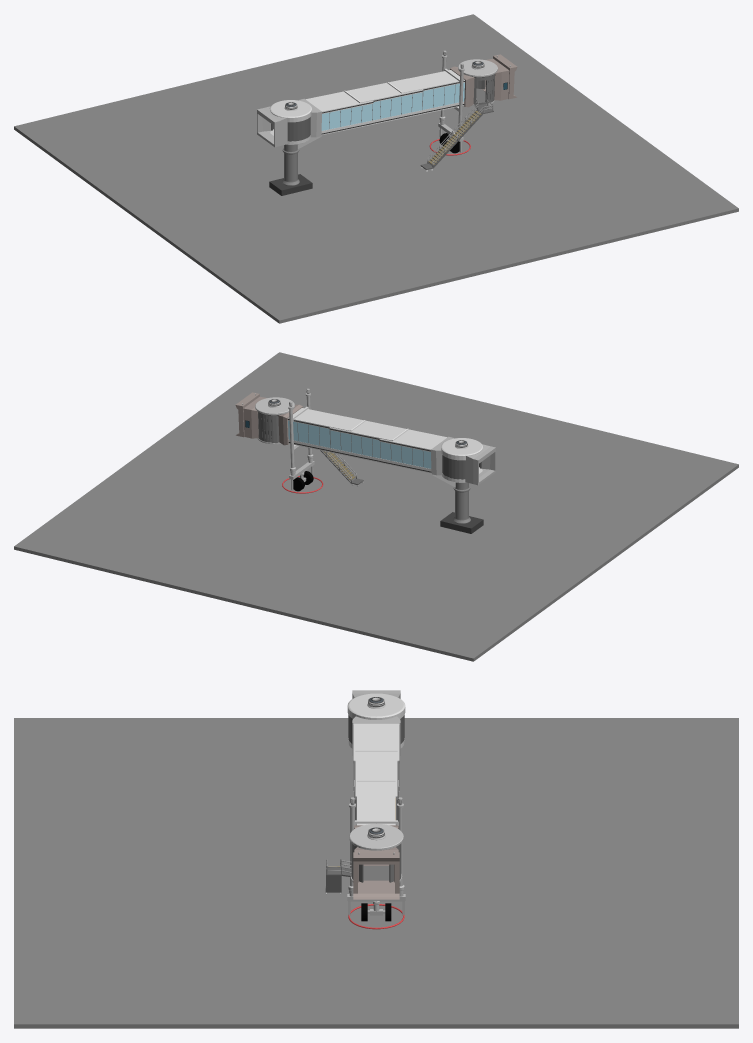
The model's file is aIROBRIDGE.fbx.
3 views of the same model, one above another, from view 1: azimuth 30°, elevation 25°; view 2: azimuth 150°, elevation 25°; view 3: azimuth 270°, elevation 25° (orthographic). The views are drawn at different scales.
Visible parts, largest first — view 1: Plane.003, Cylinder.006, Cylinder.035, Cube.016, Plane.001, Cube.041, Plane.002, Cube.015, Cube.014, Plane, Cylinder.008, Cube.059 (+1 smaller); view 2: Plane.003, Cylinder.006, Cylinder.035, Cube.016, Plane.001, Cube.041, Plane.002, Cube.015, Cube.014, Plane, Cylinder.008, Cube.059 (+1 smaller); view 3: Plane.003, Cylinder.035, Cube.016, Cylinder.006, Cube.015, Cube.014, Cube.040, Cube.059, Cylinder.009.
Boxes of the visible parts, bbox=[...] form: Plane.003: bbox=[14, 14, 738, 323]; Cylinder.006: bbox=[269, 100, 311, 144]; Cylinder.035: bbox=[458, 59, 497, 106]; Cube.016: bbox=[387, 70, 464, 93]; Plane.001: bbox=[372, 92, 422, 120]; Cube.041: bbox=[257, 106, 287, 147]; Plane.002: bbox=[321, 104, 372, 130]; Cube.015: bbox=[344, 78, 423, 103]; Cube.014: bbox=[305, 91, 373, 113]; Plane: bbox=[422, 82, 464, 109]; Cylinder.008: bbox=[282, 144, 299, 185]; Cube.059: bbox=[482, 58, 509, 100]; Plane.003: bbox=[14, 352, 738, 661]; Cylinder.006: bbox=[441, 438, 483, 482]; Cylinder.035: bbox=[255, 397, 294, 444]; Cube.016: bbox=[288, 408, 365, 431]; Plane.001: bbox=[330, 430, 380, 458]; Cube.041: bbox=[465, 444, 495, 485]; Plane.002: bbox=[380, 442, 431, 468]; Cube.015: bbox=[329, 416, 408, 441]; Cube.014: bbox=[379, 429, 447, 451]; Plane: bbox=[288, 420, 330, 447]; Cylinder.008: bbox=[453, 482, 470, 523]; Cube.059: bbox=[243, 396, 267, 438]; Plane.003: bbox=[14, 718, 738, 1028]; Cylinder.035: bbox=[349, 823, 403, 882]; Cube.016: bbox=[357, 780, 395, 825]; Cylinder.006: bbox=[347, 693, 405, 748]; Cube.015: bbox=[355, 750, 397, 799]; Cube.014: bbox=[353, 723, 399, 763]; Cube.040: bbox=[353, 852, 399, 899]; Cube.059: bbox=[354, 847, 398, 890]; Cylinder.009: bbox=[348, 803, 404, 896].
Bounding box in the file's own units: 1000 × 196 × 1000.
